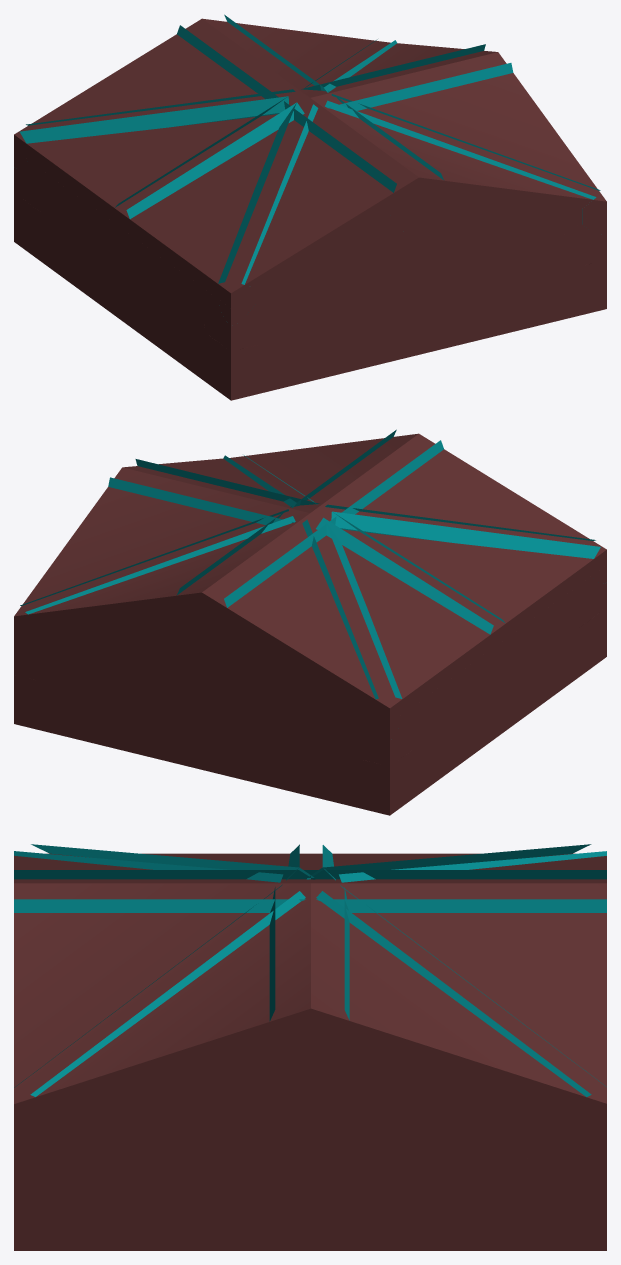
File: corridorceiling_003.fbx
3 renders of one model, top to bottom at view 1: azimuth 30°, elevation 25°; view 2: azimuth 150°, elevation 25°; view 3: azimuth 270°, elevation 25°, orthographic. The views are drawn at different scales.
Parts seen in each view (by area): view 1: corridorceiling_003; view 2: corridorceiling_003; view 3: corridorceiling_003.
Boxes of the visible parts, box(x1,y1,x2,y2) form: corridorceiling_003: box(14, 14, 606, 400); corridorceiling_003: box(14, 429, 606, 815); corridorceiling_003: box(14, 844, 606, 1250).
Bounding box in the file's own units: 400 × 183 × 400.
